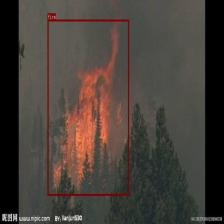fire: (48, 19, 128, 196)
